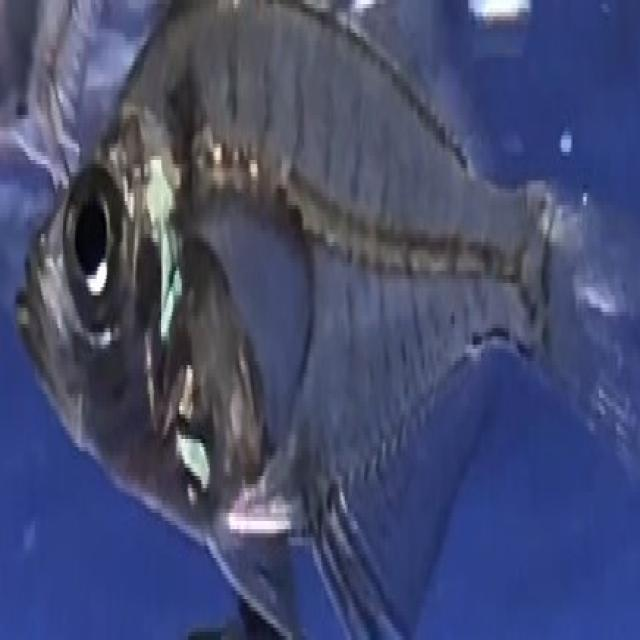Glass-Perchlet: (23, 0, 640, 607)
